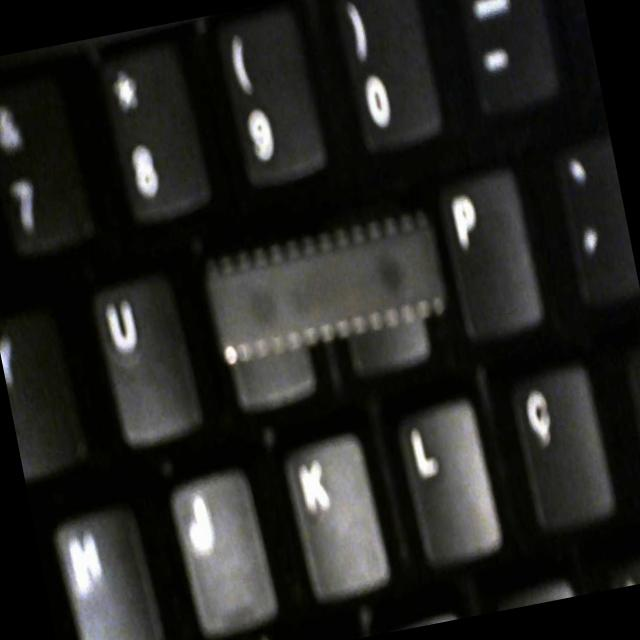atmega: (192, 205, 463, 374)
